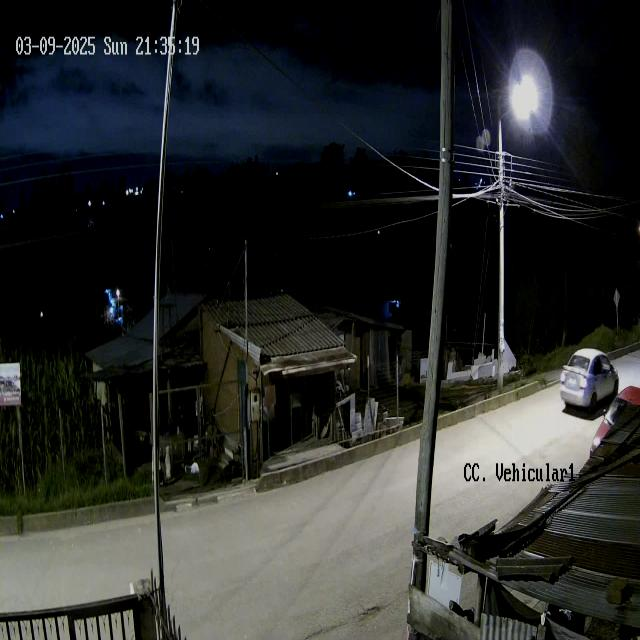SED: (560, 346, 620, 414)
